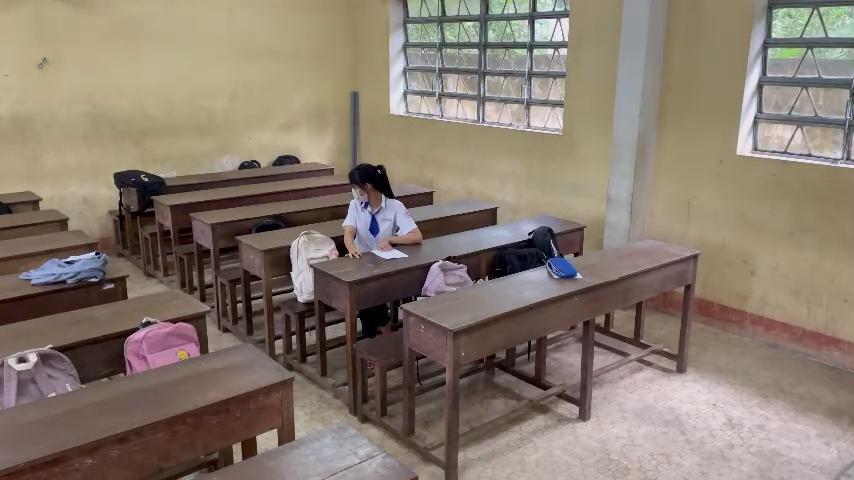Look Around: (340, 159, 386, 205)
